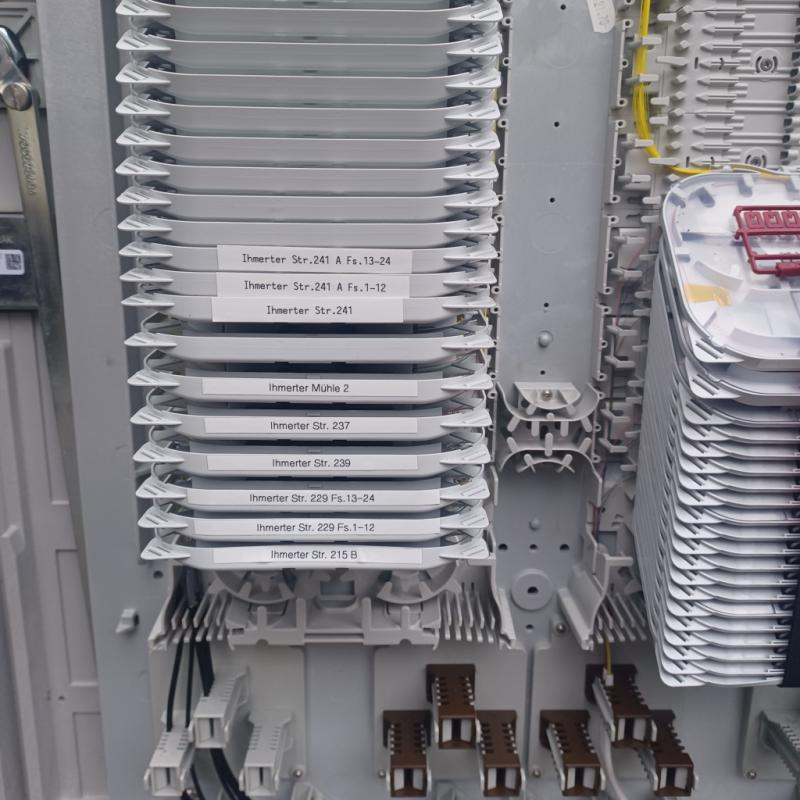NT-Gehause: (3, 0, 796, 795)
Spleiskassetten: (100, 0, 520, 637), (558, 2, 798, 685)
